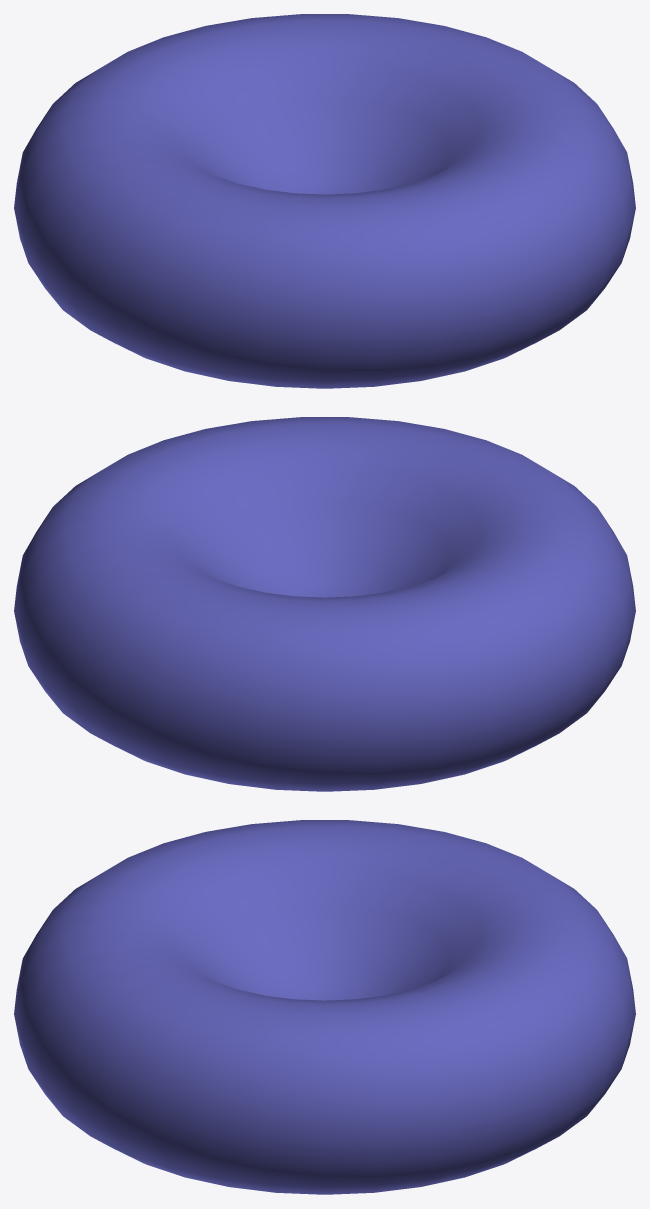
The model's file is TorusPurple.glb.
3 views of the same model, one above another, from view 1: azimuth 30°, elevation 25°; view 2: azimuth 150°, elevation 25°; view 3: azimuth 270°, elevation 25° (orthographic).
Visible parts, largest first — view 1: Torus.001; view 2: Torus.001; view 3: Torus.001.
Part boxes in pixels (box(x1,y1,x2,y2)): Torus.001: box(14, 14, 635, 388); Torus.001: box(14, 417, 635, 791); Torus.001: box(14, 820, 635, 1194).
Size of what is drawn, in the model's own units: 0.3063 by 0.0933 by 0.3066.
